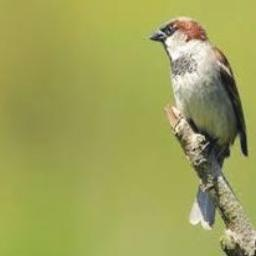Sparrow: (150, 16, 250, 229)
